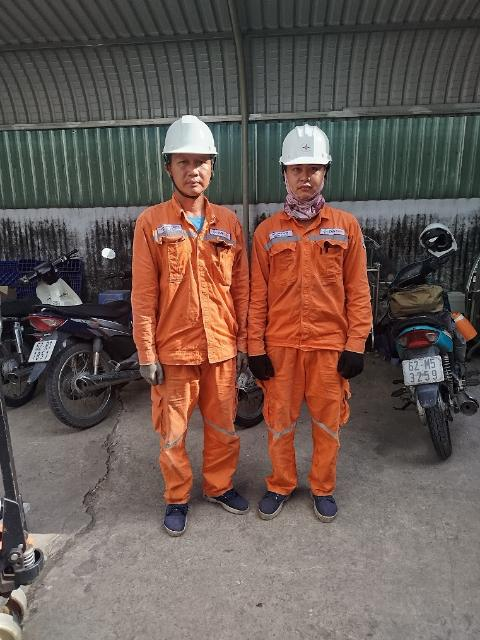gloves: (244, 342, 292, 388), (338, 349, 375, 379)
helmet: (272, 113, 355, 181), (149, 108, 234, 169)
shoes: (190, 472, 253, 518), (251, 480, 296, 524), (163, 483, 197, 539), (310, 483, 346, 525)
